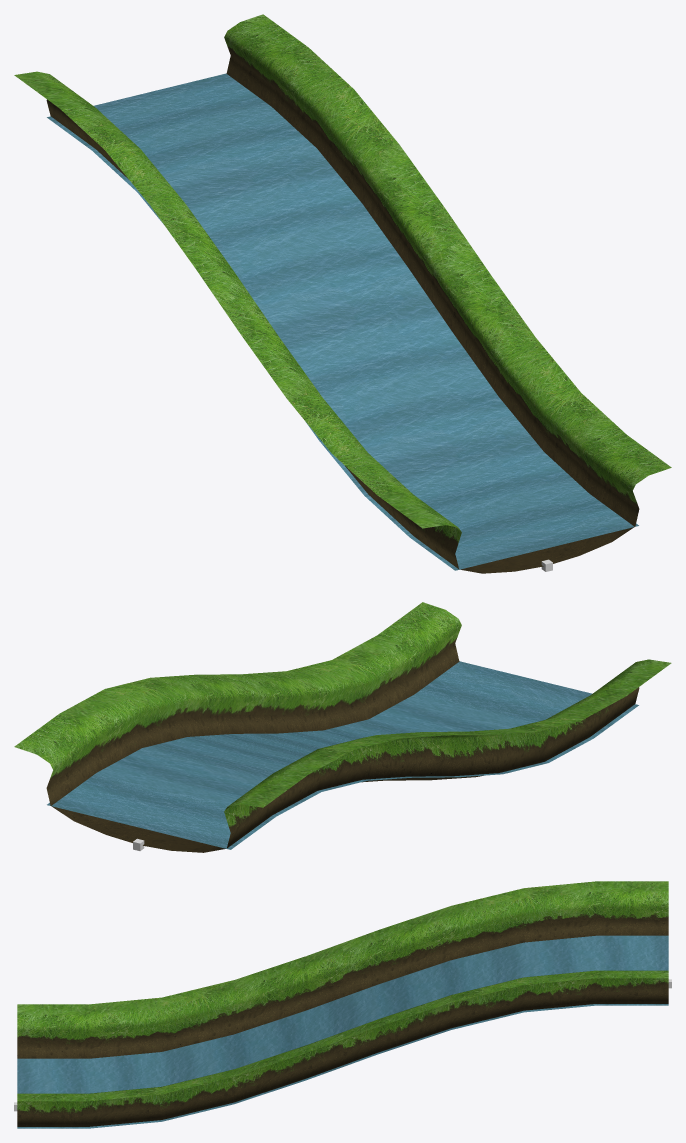
File: roadSlope.up2.fbx
The picture shows the model from 3 angles, top to bottom: view 1: azimuth 30°, elevation 25°; view 2: azimuth 150°, elevation 25°; view 3: azimuth 270°, elevation 25°; orthographic projection. The views are drawn at different scales.
Parts seen in each view (by area): view 1: MESH roadSlope.up2; view 2: MESH roadSlope.up2; view 3: MESH roadSlope.up2.
Boxes of the visible parts, x1=… form: MESH roadSlope.up2: x1=14, y1=14, x2=671, y2=573; MESH roadSlope.up2: x1=14, y1=602, x2=671, y2=852; MESH roadSlope.up2: x1=17, y1=881, x2=668, y2=1128.
Size of what is drawn, in the model's own units: 1691 by 1463 by 4850.
